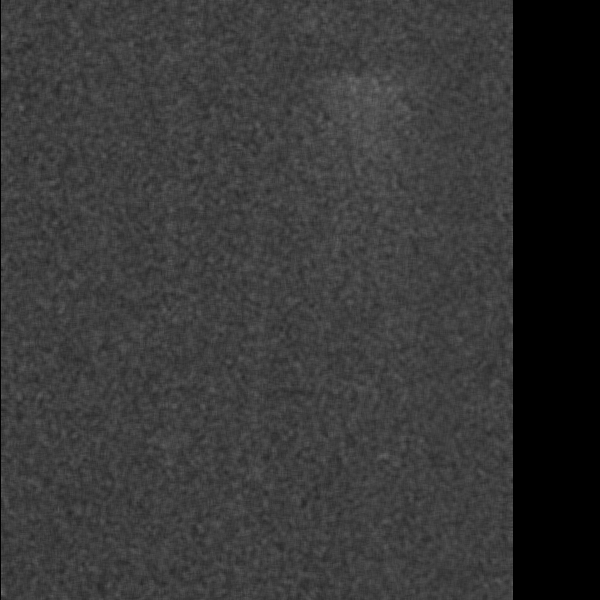spark: (342, 70, 412, 161)
